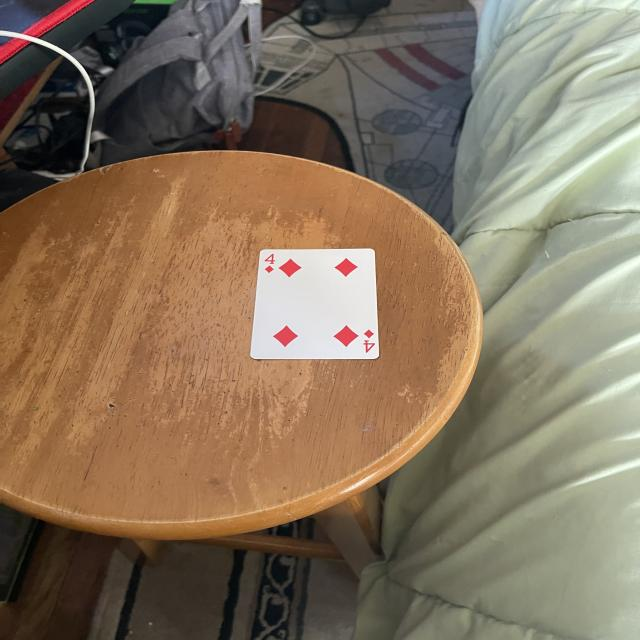4 of diamonds: (251, 249, 375, 359)
